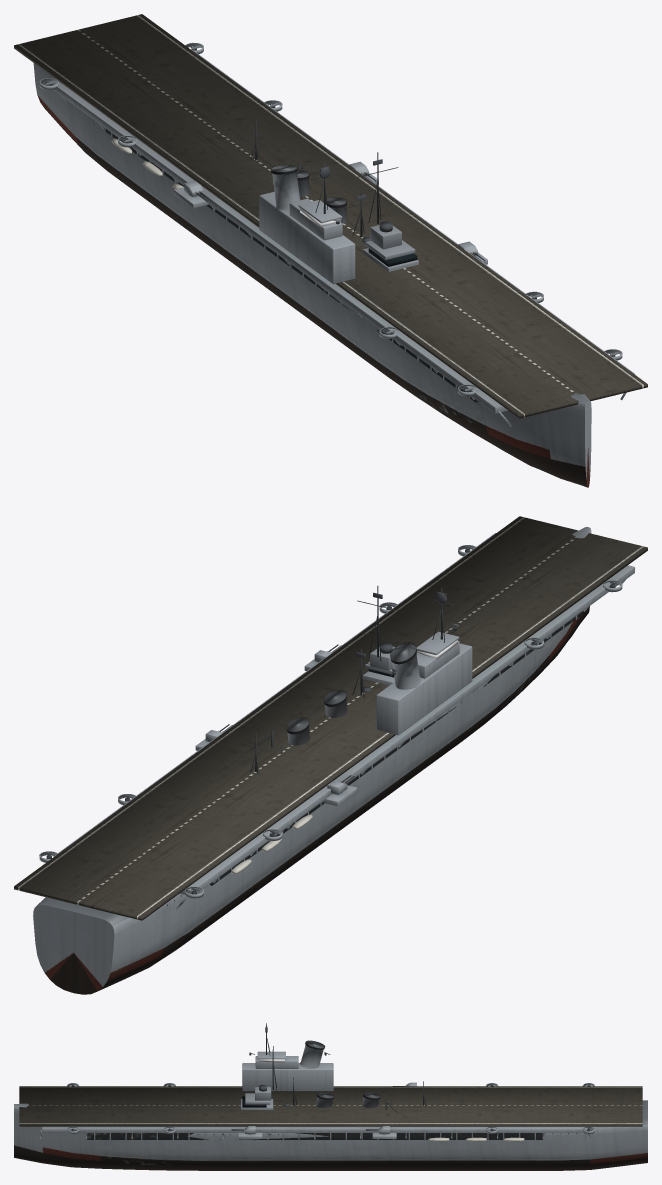
The model's file is ships.glb.
3 renders of one model, top to bottom at view 1: azimuth 30°, elevation 25°; view 2: azimuth 150°, elevation 25°; view 3: azimuth 270°, elevation 25°, orthographic. The views are drawn at different scales.
Visible parts, largest first — view 1: carrier_deck, carrier_hull, cruiser_hull; view 2: carrier_deck, carrier_hull, cruiser_hull; view 3: carrier_hull, carrier_deck, cruiser_hull.
Boxes of the visible parts, <box> form: carrier_deck: <box>14,14,647,418</box>; carrier_hull: <box>33,43,634,487</box>; cruiser_hull: <box>240,120,418,271</box>; carrier_deck: <box>14,516,647,920</box>; carrier_hull: <box>33,527,634,994</box>; cruiser_hull: <box>241,586,398,773</box>; carrier_hull: <box>14,1023,647,1170</box>; carrier_deck: <box>19,1086,642,1126</box>; cruiser_hull: <box>241,1046,425,1113</box>.
Size of what is drawn, in the model's own units: 43.5 by 51.68 by 236.
5 materials, 2 textured.
